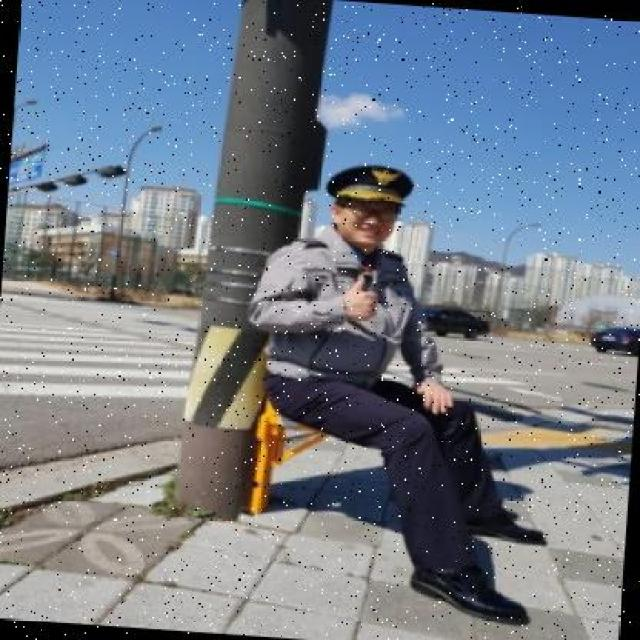obstacle: (244, 164, 564, 627)
